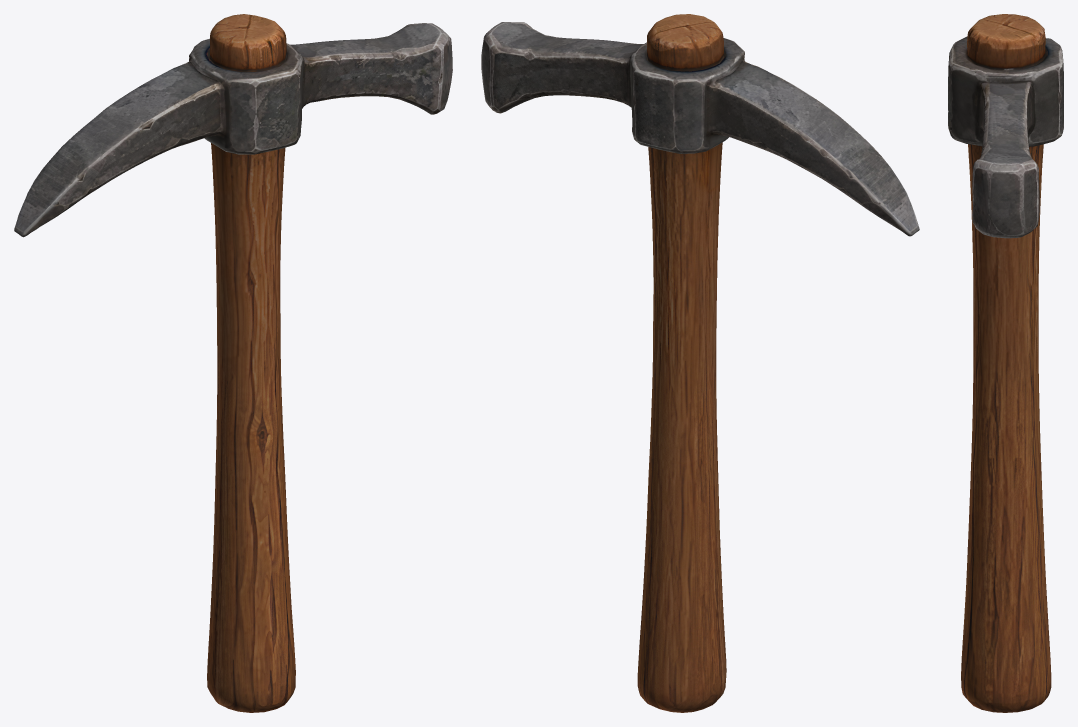
The model's file is pickaxe.glb.
The picture shows the model from 3 angles, left to right: view 1: azimuth 30°, elevation 25°; view 2: azimuth 150°, elevation 25°; view 3: azimuth 270°, elevation 25°; orthographic projection.
Parts seen in each view (by area): view 1: tripo_node_de5a8e0e; view 2: tripo_node_de5a8e0e; view 3: tripo_node_de5a8e0e.
Boxes of the visible parts, x1,y1,x2,y2 form: tripo_node_de5a8e0e: (14, 14, 452, 712); tripo_node_de5a8e0e: (481, 14, 919, 712); tripo_node_de5a8e0e: (948, 14, 1063, 712).
Size of the model in its own units: 65.13 by 97.93 by 15.28.
1 material, 1 textured.
